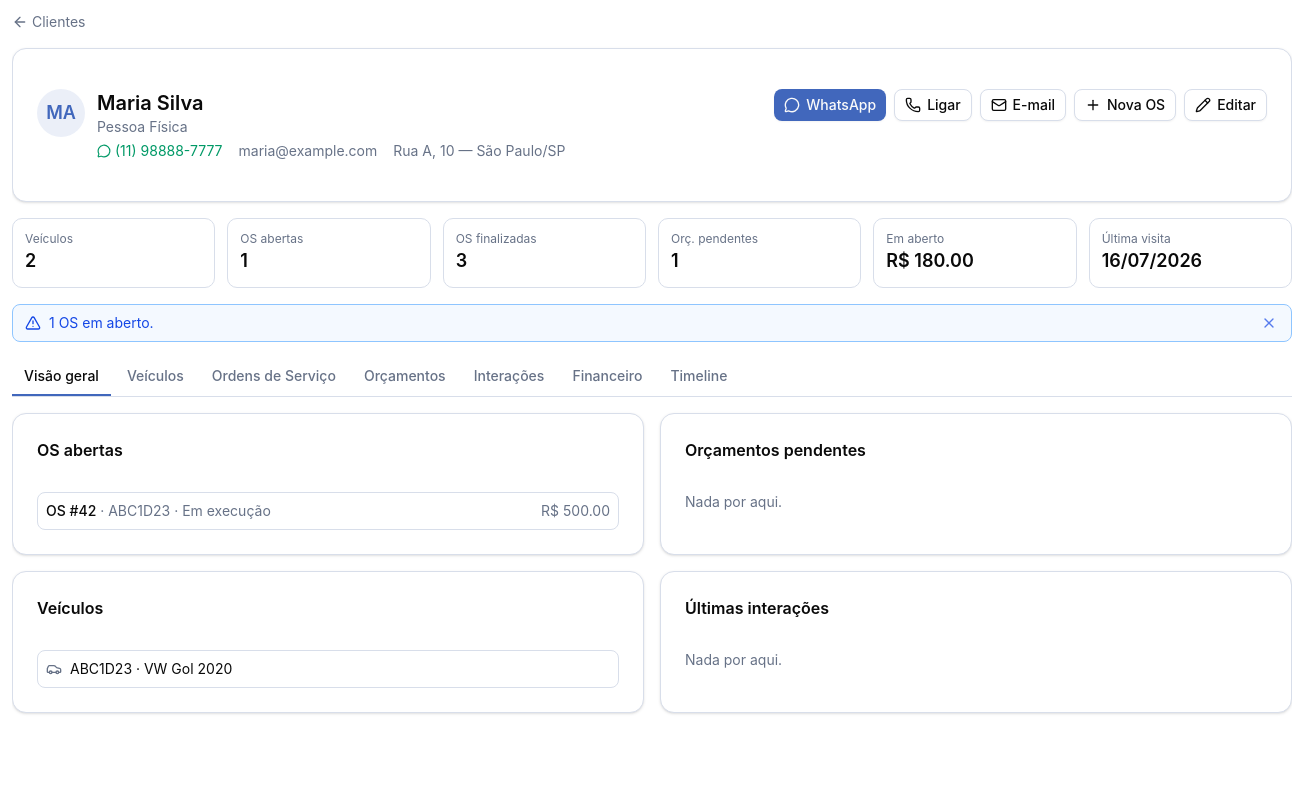
Scenario: Cliente 360° › lazy-loads the financial tab when authorized
The width and height of the screenshot is (1292, 812).
expect the heading "Maria Silva" is shown: met, box [97, 91, 204, 115]
What coordinates should you click on to do the following:
click the button "Financeiro"
I would click on:
 (607, 377)
Its box is [560, 358, 654, 396].
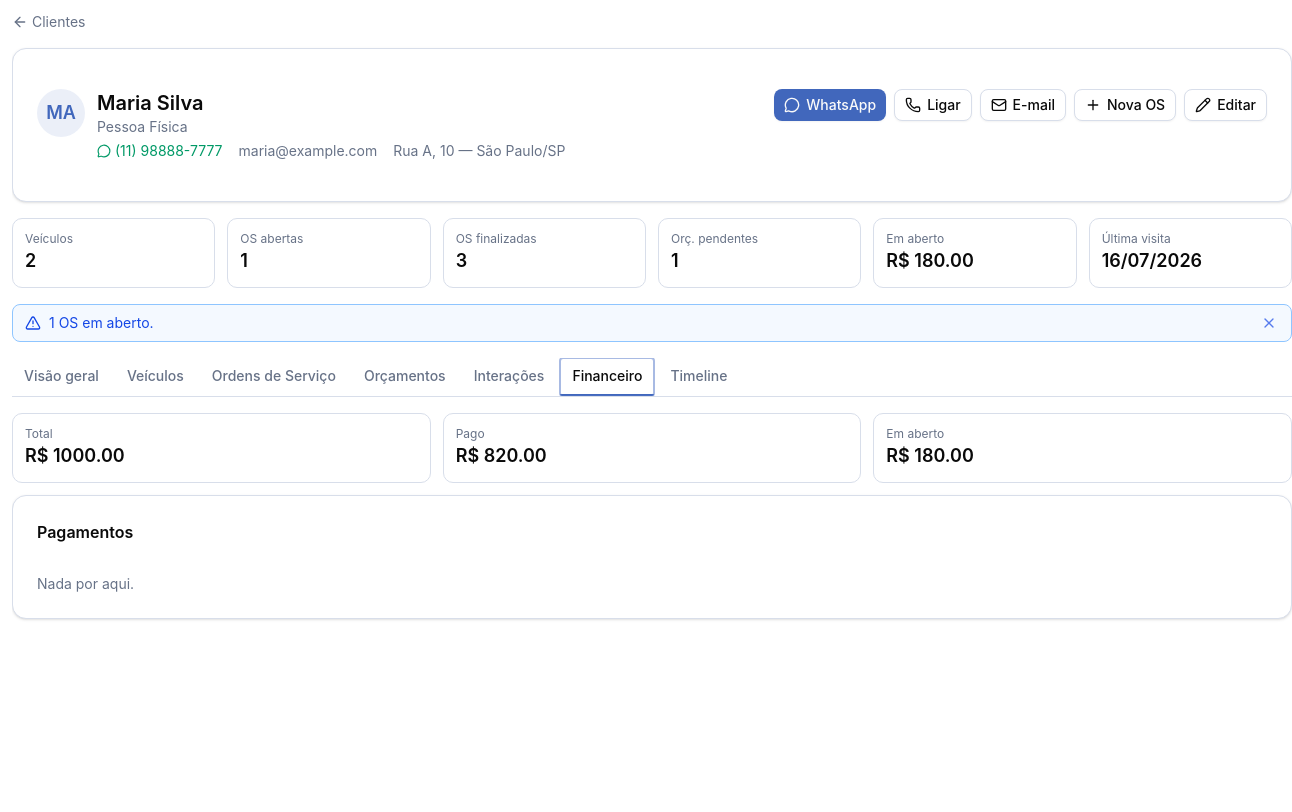
expect the text "R$ 820.00" is shown: met, box [456, 445, 547, 466]
